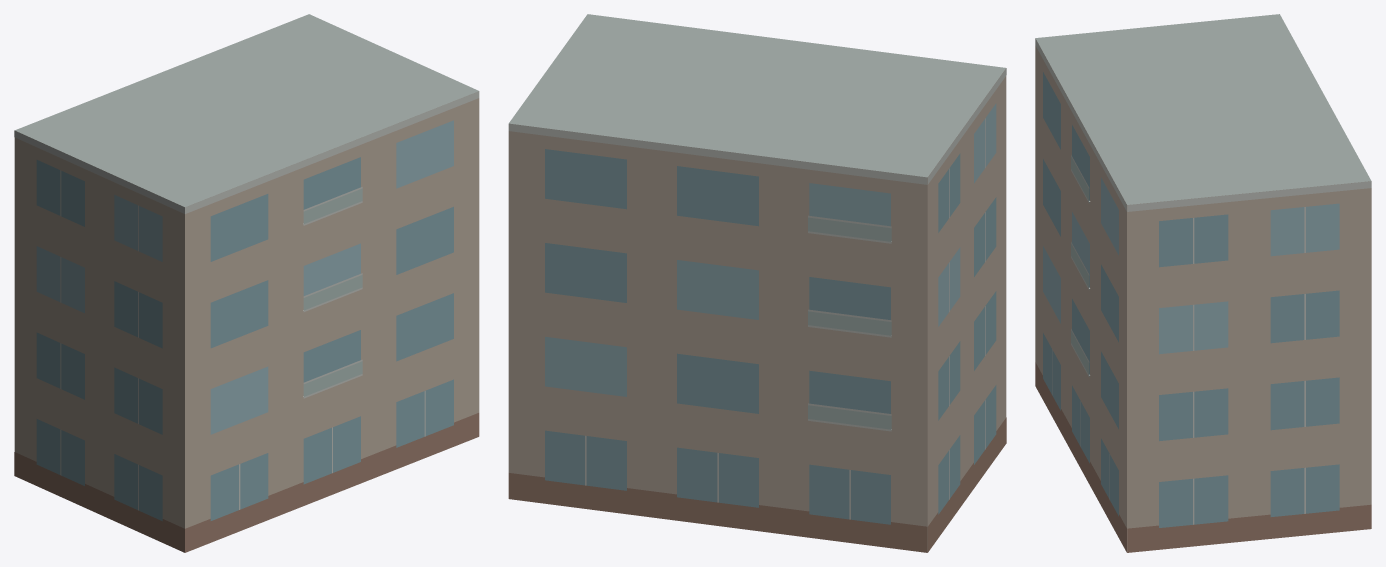
File: residential-0acc67d1-1d2c-4eba-8bbc-c8dd001a52ae.glb
The picture shows the model from 3 angles, left to right: view 1: azimuth 30°, elevation 25°; view 2: azimuth 150°, elevation 25°; view 3: azimuth 270°, elevation 25°; orthographic projection. The views are drawn at different scales.
Visible parts, largest first — view 1: residential-0acc67d1-1d2c-4eba-8bbc-c8dd001a52ae.tmp; view 2: residential-0acc67d1-1d2c-4eba-8bbc-c8dd001a52ae.tmp; view 3: residential-0acc67d1-1d2c-4eba-8bbc-c8dd001a52ae.tmp.
Boxes of the visible parts, bbox=[...] form: residential-0acc67d1-1d2c-4eba-8bbc-c8dd001a52ae.tmp: bbox=[14, 14, 479, 552]; residential-0acc67d1-1d2c-4eba-8bbc-c8dd001a52ae.tmp: bbox=[508, 14, 1006, 552]; residential-0acc67d1-1d2c-4eba-8bbc-c8dd001a52ae.tmp: bbox=[1035, 14, 1371, 552].
Size of the model in its own units: 14.38 by 12.2 by 10.7.
